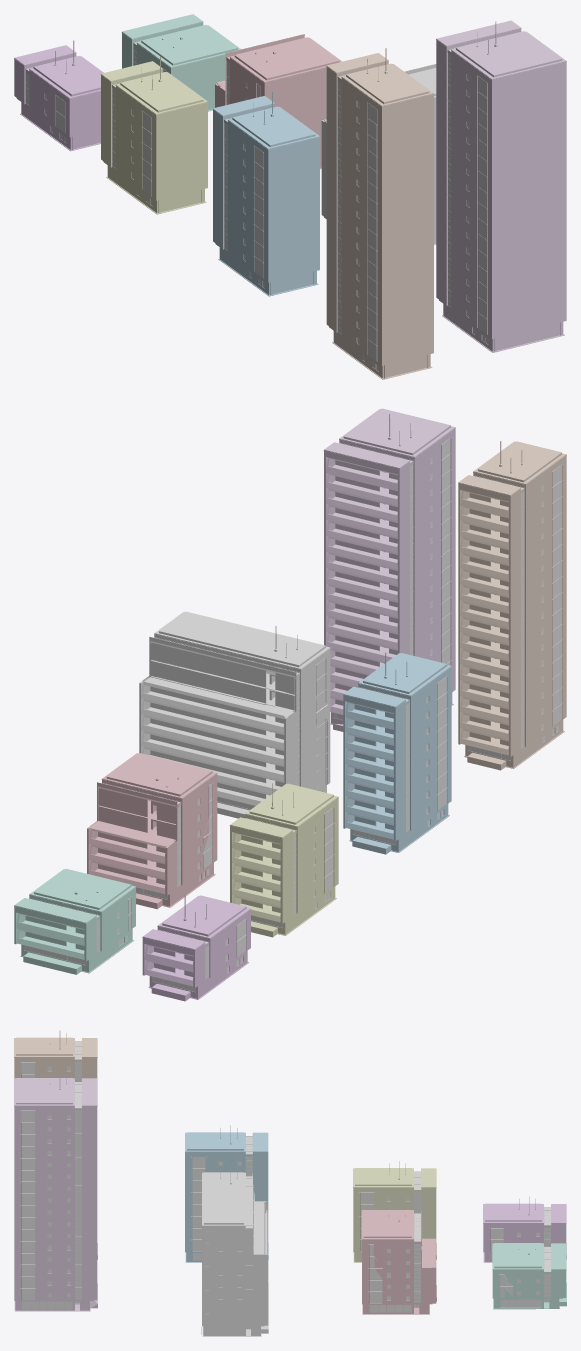
File: buildings.fbx
3 renders of one model, top to bottom at view 1: azimuth 30°, elevation 25°; view 2: azimuth 150°, elevation 25°; view 3: azimuth 270°, elevation 25°, orthographic. The views are drawn at different scales.
Visible parts, largest first — view 1: size4-d, size4, size3, size2, size2-d, size1, size1-d, size3-d; view 2: size4-d, size4, size3-d, size3, size2-d, size2, size1-d, size1; view 3: size4-d, size3-d, size2-d, size3, size1-d, size2, size1, size4.
Part boxes in pixels (x1,y1,x2,y2): size4-d: (436, 20, 566, 352); size4: (326, 48, 434, 379); size3: (212, 91, 320, 296); size2: (100, 56, 208, 214); size2-d: (215, 34, 341, 169); size1: (14, 40, 103, 151); size1-d: (121, 14, 240, 111); size3-d: (321, 64, 436, 245); size4-d: (323, 408, 455, 731); size4: (458, 441, 566, 770); size3-d: (139, 611, 330, 818); size3: (343, 652, 451, 854); size2-d: (87, 753, 217, 909); size2: (229, 783, 338, 937); size1-d: (14, 868, 136, 974); size1: (142, 895, 251, 1001); size4-d: (14, 1071, 97, 1311); size3-d: (201, 1165, 268, 1336); size2-d: (361, 1210, 436, 1314); size3: (185, 1125, 268, 1262); size1-d: (492, 1243, 566, 1309); size2: (353, 1161, 436, 1262); size1: (483, 1196, 566, 1262); size4: (14, 1030, 97, 1259).
Size of the model in its own units: 6083 by 6879 by 15228.
